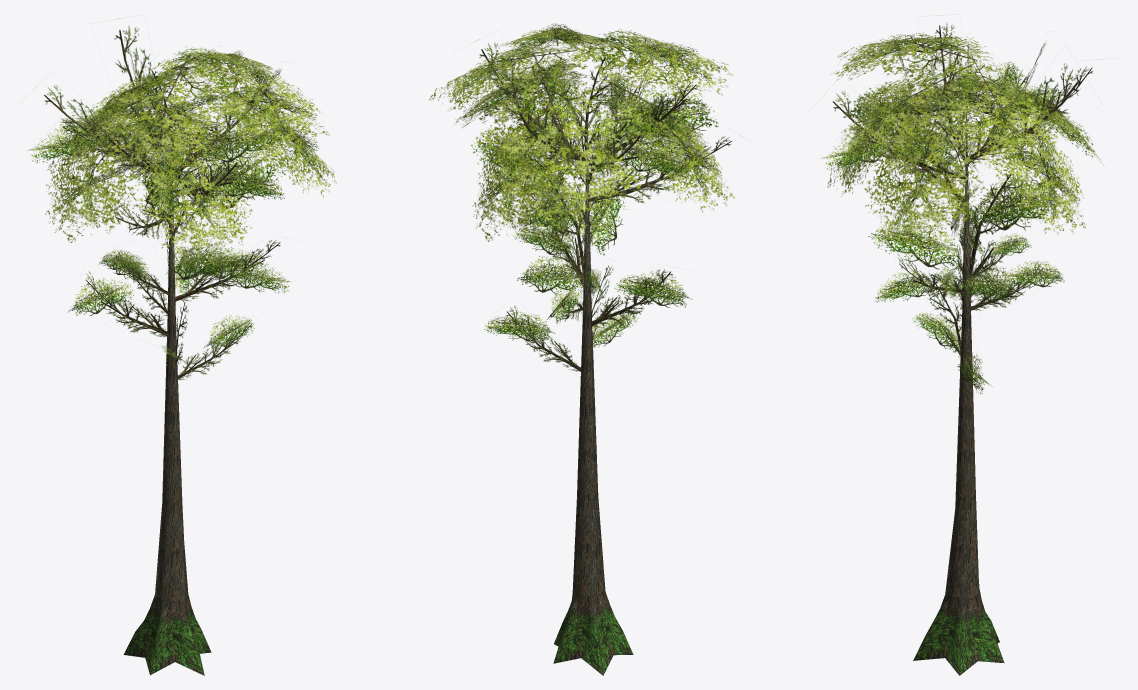
File: fo_s1_giant_tree.glb
3 views of the same model, side by side, from view 1: azimuth 30°, elevation 25°; view 2: azimuth 150°, elevation 25°; view 3: azimuth 270°, elevation 25° (orthographic). The views are drawn at different scales.
Parts seen in each view (by area): view 1: FO_S1_giant_tree; view 2: FO_S1_giant_tree; view 3: FO_S1_giant_tree.
Boxes of the visible parts, x1=… form: FO_S1_giant_tree: x1=29, y1=19, x2=336, y2=675; FO_S1_giant_tree: x1=429, y1=23, x2=734, y2=675; FO_S1_giant_tree: x1=820, y1=15, x2=1105, y2=675.
Bounding box in the file's own units: 35.92 × 66.45 × 30.79.
Materials: 5 (5 with a texture image).
